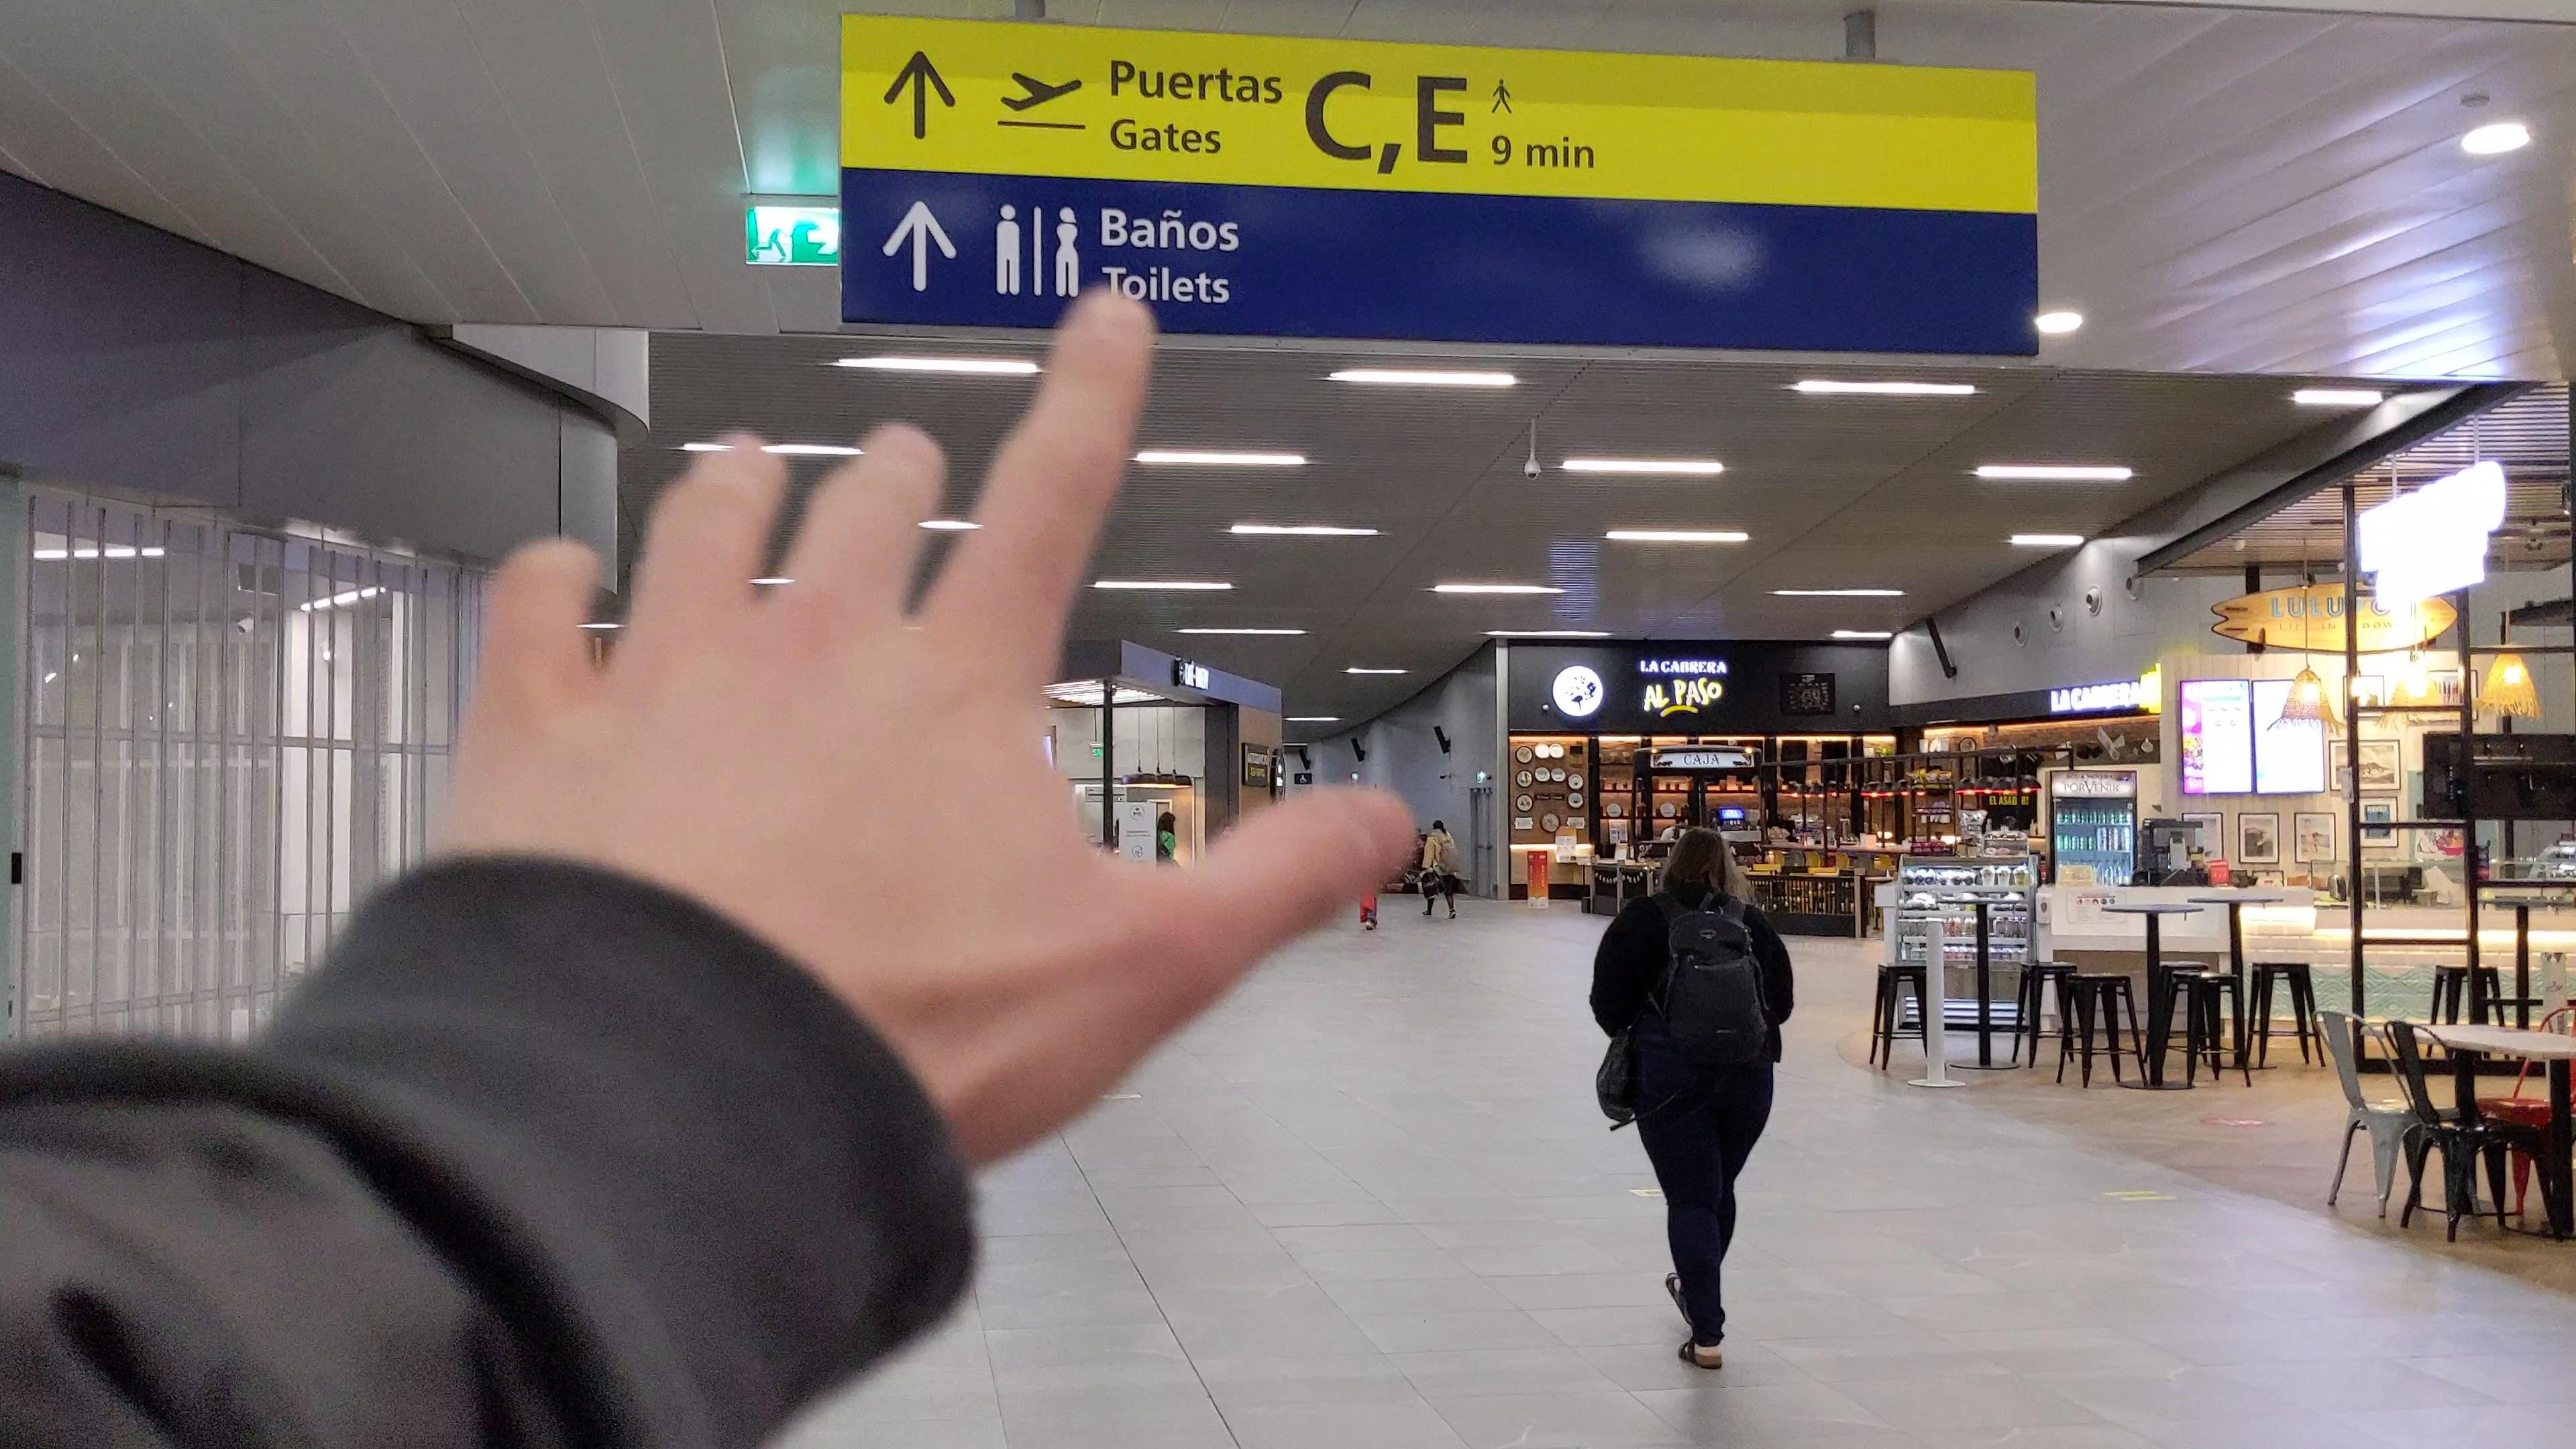airplane symbol: (998, 69, 1085, 115)
bathrooms: (994, 203, 1083, 297)
emergency exit: (752, 225, 794, 264)
emergency right arrow: (807, 218, 840, 257)
thin up arrow: (883, 196, 961, 297), (881, 46, 959, 143)
